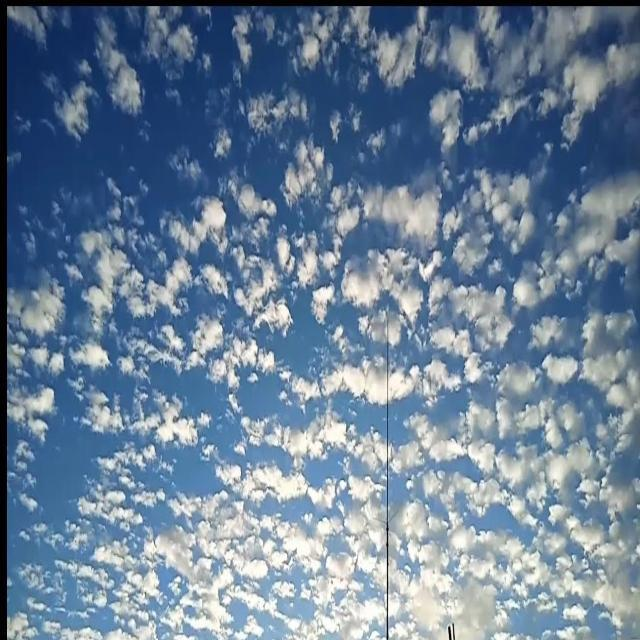altocumulus: (82, 175, 640, 624)
